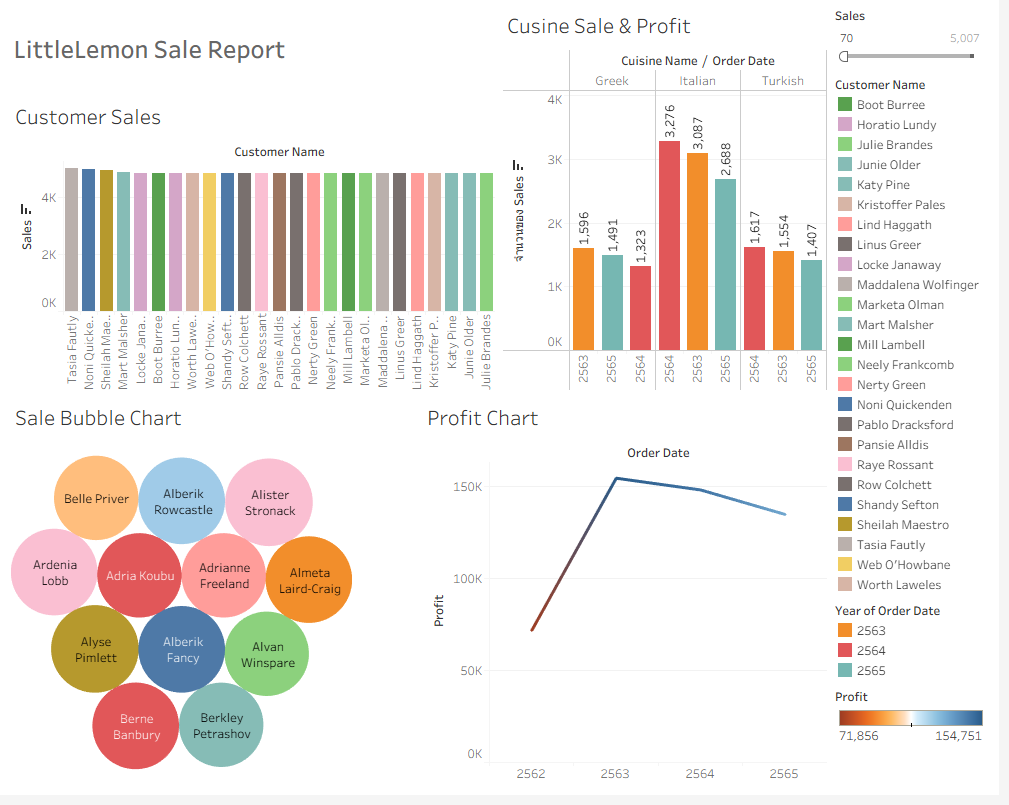

Layout of this report page (visuals, bound fields, positions):
{"tool":"tableau","page":{"name":"LittleLemonSaleDashboard","canvas":[1000,800],"ordinal":0},"visuals":[{"type":"text","box":[8,8,492,91]},{"type":"worksheet","title":"Cusine Sale & Profit","mark":"Bar","rows":["Sales"],"cols":["Cuisine Name","Order Date"],"box":[500,8,332,392]},{"type":"filter","title":"Customer Sales","param":"[federated.1ypos970zy68wf102j8u91ccfxf6].[sum:Sales:qk]","box":[832,8,160,69]},{"type":"legend","title":"Customer Sales","param":"[federated.1ypos970zy68wf102j8u91ccfxf6].[none:Customer Name:nk]","box":[832,77,160,526]},{"type":"worksheet","title":"Customer Sales","mark":"Automatic","rows":["Sales"],"cols":["Customer Name"],"box":[8,99,492,301]},{"type":"worksheet","title":"Sale Bubble Chart","mark":"Circle","box":[8,400,412,392]},{"type":"worksheet","title":"Profit Chart","mark":"Automatic","rows":["Calculation_0533600511295490"],"cols":["Order Date"],"box":[420,400,412,392]},{"type":"legend","title":"Cusine Sale & Profit","param":"[federated.1ypos970zy68wf102j8u91ccfxf6].[yr:Order Date:ok]","box":[832,603,160,86]},{"type":"legend","title":"Profit Chart","param":"[federated.1ypos970zy68wf102j8u91ccfxf6].[sum:Calculation_0533600511295490:qk]","box":[832,689,160,65]}]}

Visuals, with their boxes in screenshot pixels (x1, y1, x2, y2), scaled from the page's 1000x800 canvas onto the 1009x805 screenshot:
text: {"left": 8, "top": 8, "right": 504, "bottom": 100}
"Cusine Sale & Profit" worksheet (Bar marks): {"left": 504, "top": 8, "right": 839, "bottom": 403}
"Customer Sales" filter: {"left": 839, "top": 8, "right": 1001, "bottom": 77}
"Customer Sales" legend: {"left": 839, "top": 77, "right": 1001, "bottom": 607}
"Customer Sales" worksheet: {"left": 8, "top": 100, "right": 504, "bottom": 403}
"Sale Bubble Chart" worksheet (Circle marks): {"left": 8, "top": 403, "right": 424, "bottom": 797}
"Profit Chart" worksheet: {"left": 424, "top": 403, "right": 839, "bottom": 797}
"Cusine Sale & Profit" legend: {"left": 839, "top": 607, "right": 1001, "bottom": 693}
"Profit Chart" legend: {"left": 839, "top": 693, "right": 1001, "bottom": 759}
